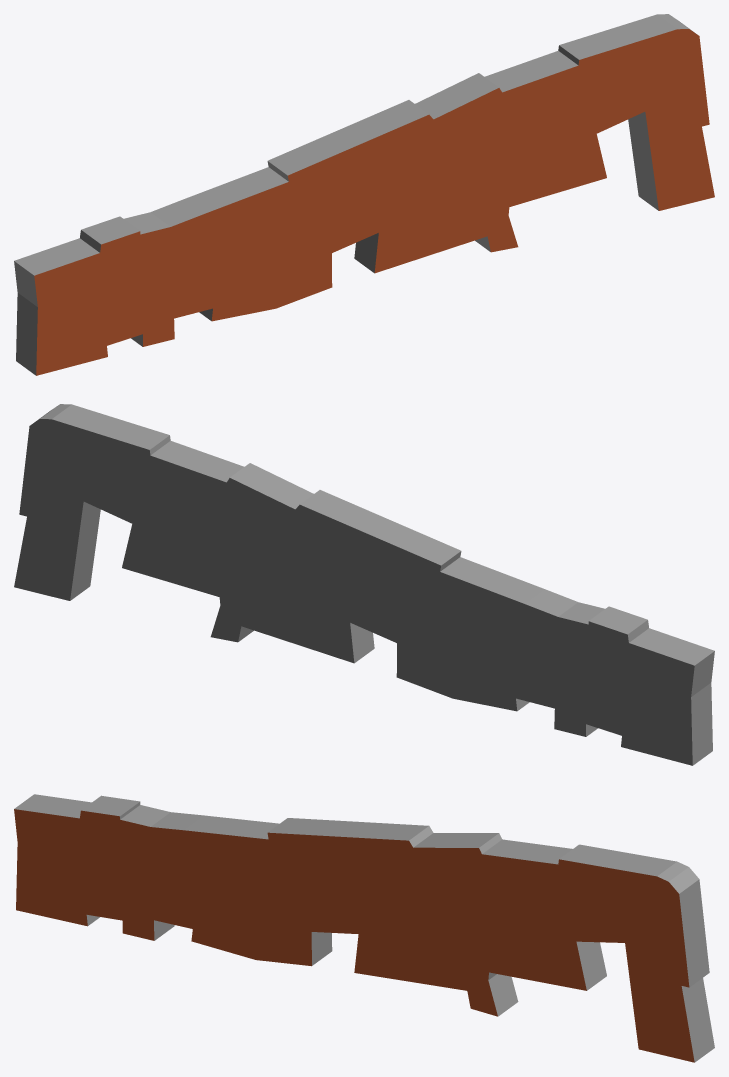
Rendered from construction_1682_assumed_A_Casa_h6m.obj.
3 views of the same model, one above another, from view 1: azimuth 30°, elevation 25°; view 2: azimuth 150°, elevation 25°; view 3: azimuth 330°, elevation 25° (orthographic).
Visible parts, largest first — view 1: construction_1682_assumed_A_Casa; view 2: construction_1682_assumed_A_Casa; view 3: construction_1682_assumed_A_Casa.
Boxes of the visible parts, <box> form: construction_1682_assumed_A_Casa: <box>14,14,714,375</box>; construction_1682_assumed_A_Casa: <box>14,404,714,765</box>; construction_1682_assumed_A_Casa: <box>14,794,714,1062</box>.
Bounding box in the file's own units: 116 × 31.06 × 6.
